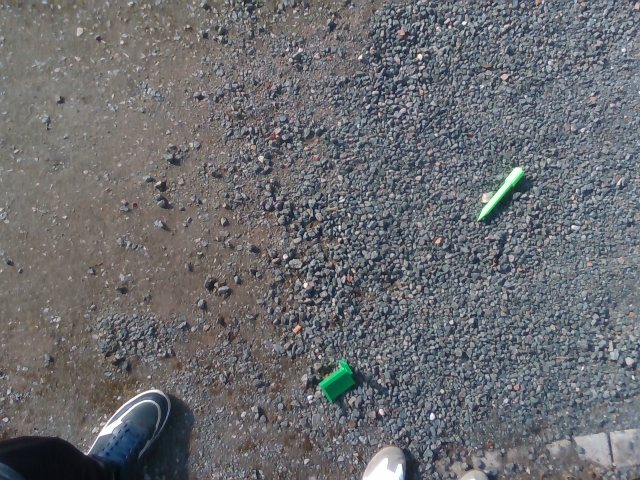Probe: (472, 163, 526, 225)
